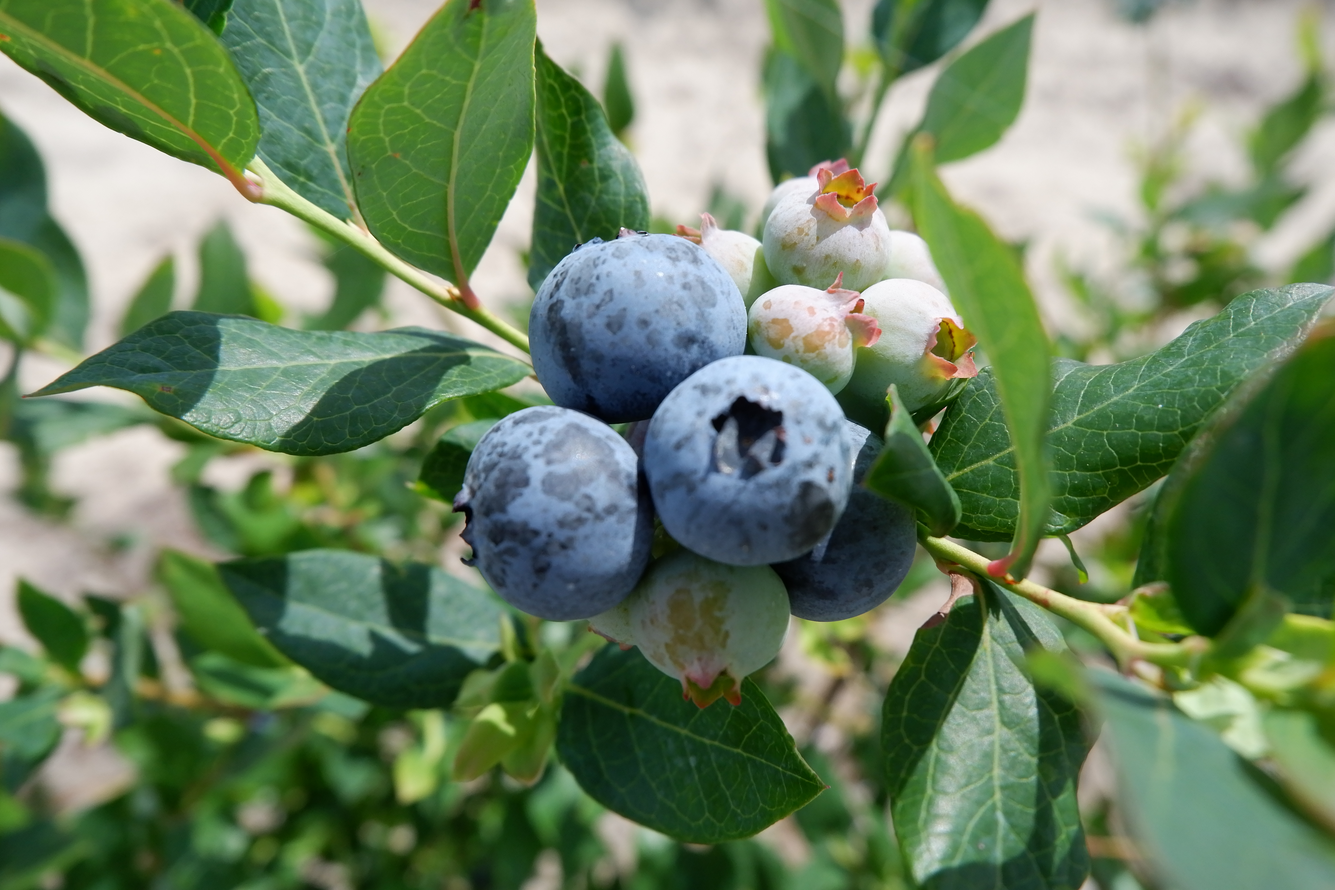Immature: (637, 548, 787, 701), (847, 277, 977, 414), (766, 176, 889, 289), (751, 287, 879, 395), (760, 159, 854, 238), (683, 218, 768, 302), (886, 233, 947, 295), (593, 593, 633, 645)
Mature: (460, 412, 656, 616), (647, 363, 846, 562), (532, 233, 743, 420), (772, 414, 920, 620), (624, 416, 652, 464)
